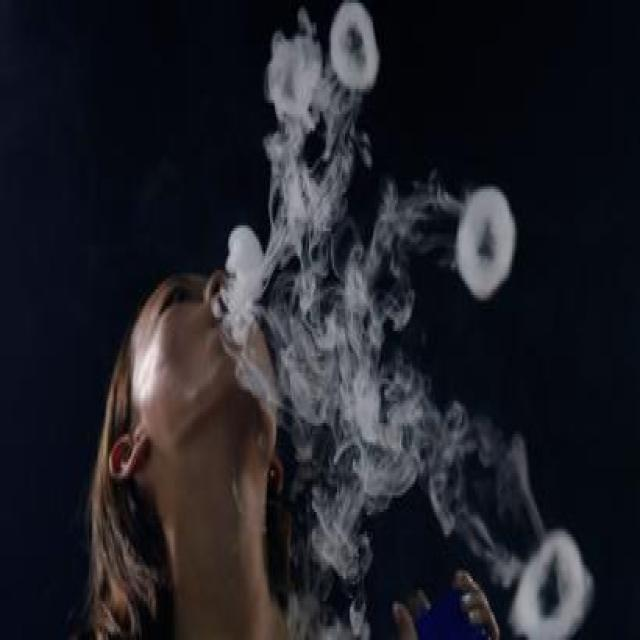Smoke: (211, 0, 594, 640)
